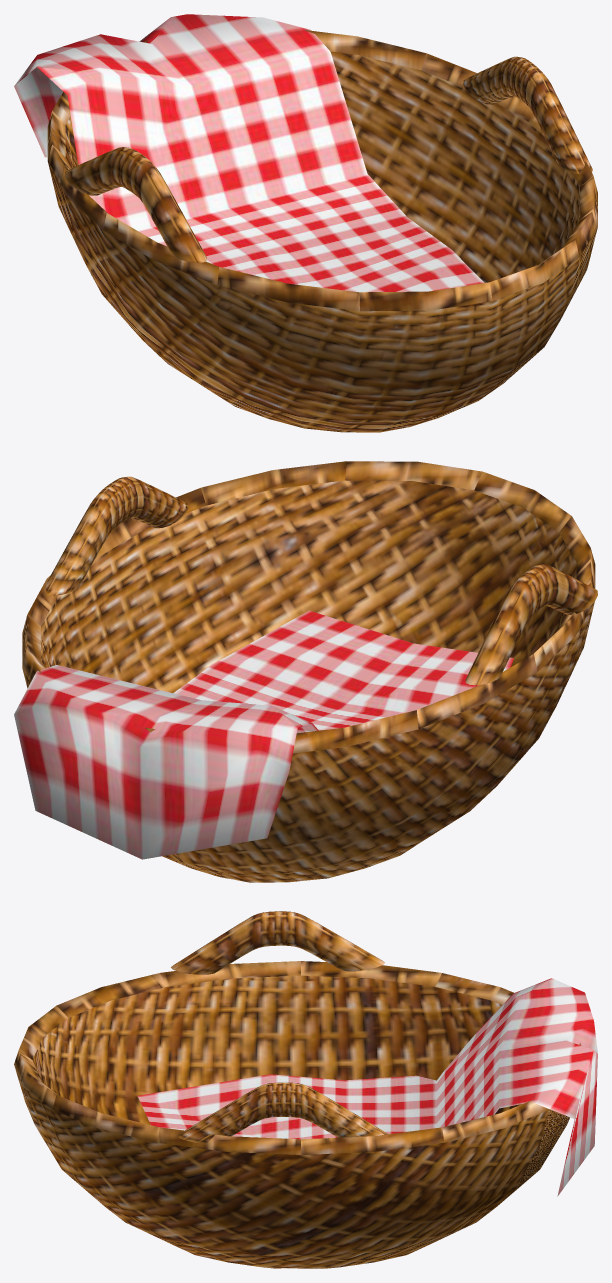
Rendered from BASKET.fbx.
The picture shows the model from 3 angles, top to bottom: view 1: azimuth 30°, elevation 25°; view 2: azimuth 150°, elevation 25°; view 3: azimuth 270°, elevation 25°; orthographic projection. The views are drawn at different scales.
Parts seen in each view (by area): view 1: Cylinder002, Plane001; view 2: Cylinder002, Plane001; view 3: Cylinder002, Plane001.
Part boxes in pixels (x1,y1,x2,y2): Cylinder002: (47, 30, 597, 432); Plane001: (14, 14, 484, 292); Cylinder002: (22, 461, 597, 882); Plane001: (14, 610, 513, 859); Cylinder002: (14, 911, 580, 1268); Plane001: (137, 978, 597, 1196).
Size of the model in its own units: 9.06 by 6.04 by 12.34.
Materials: 3 (3 with a texture image).
